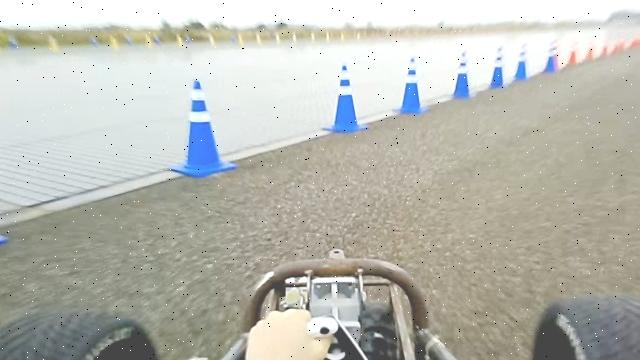blue cone: (168, 78, 237, 178), (322, 64, 370, 133), (392, 56, 430, 115), (452, 50, 473, 99)
